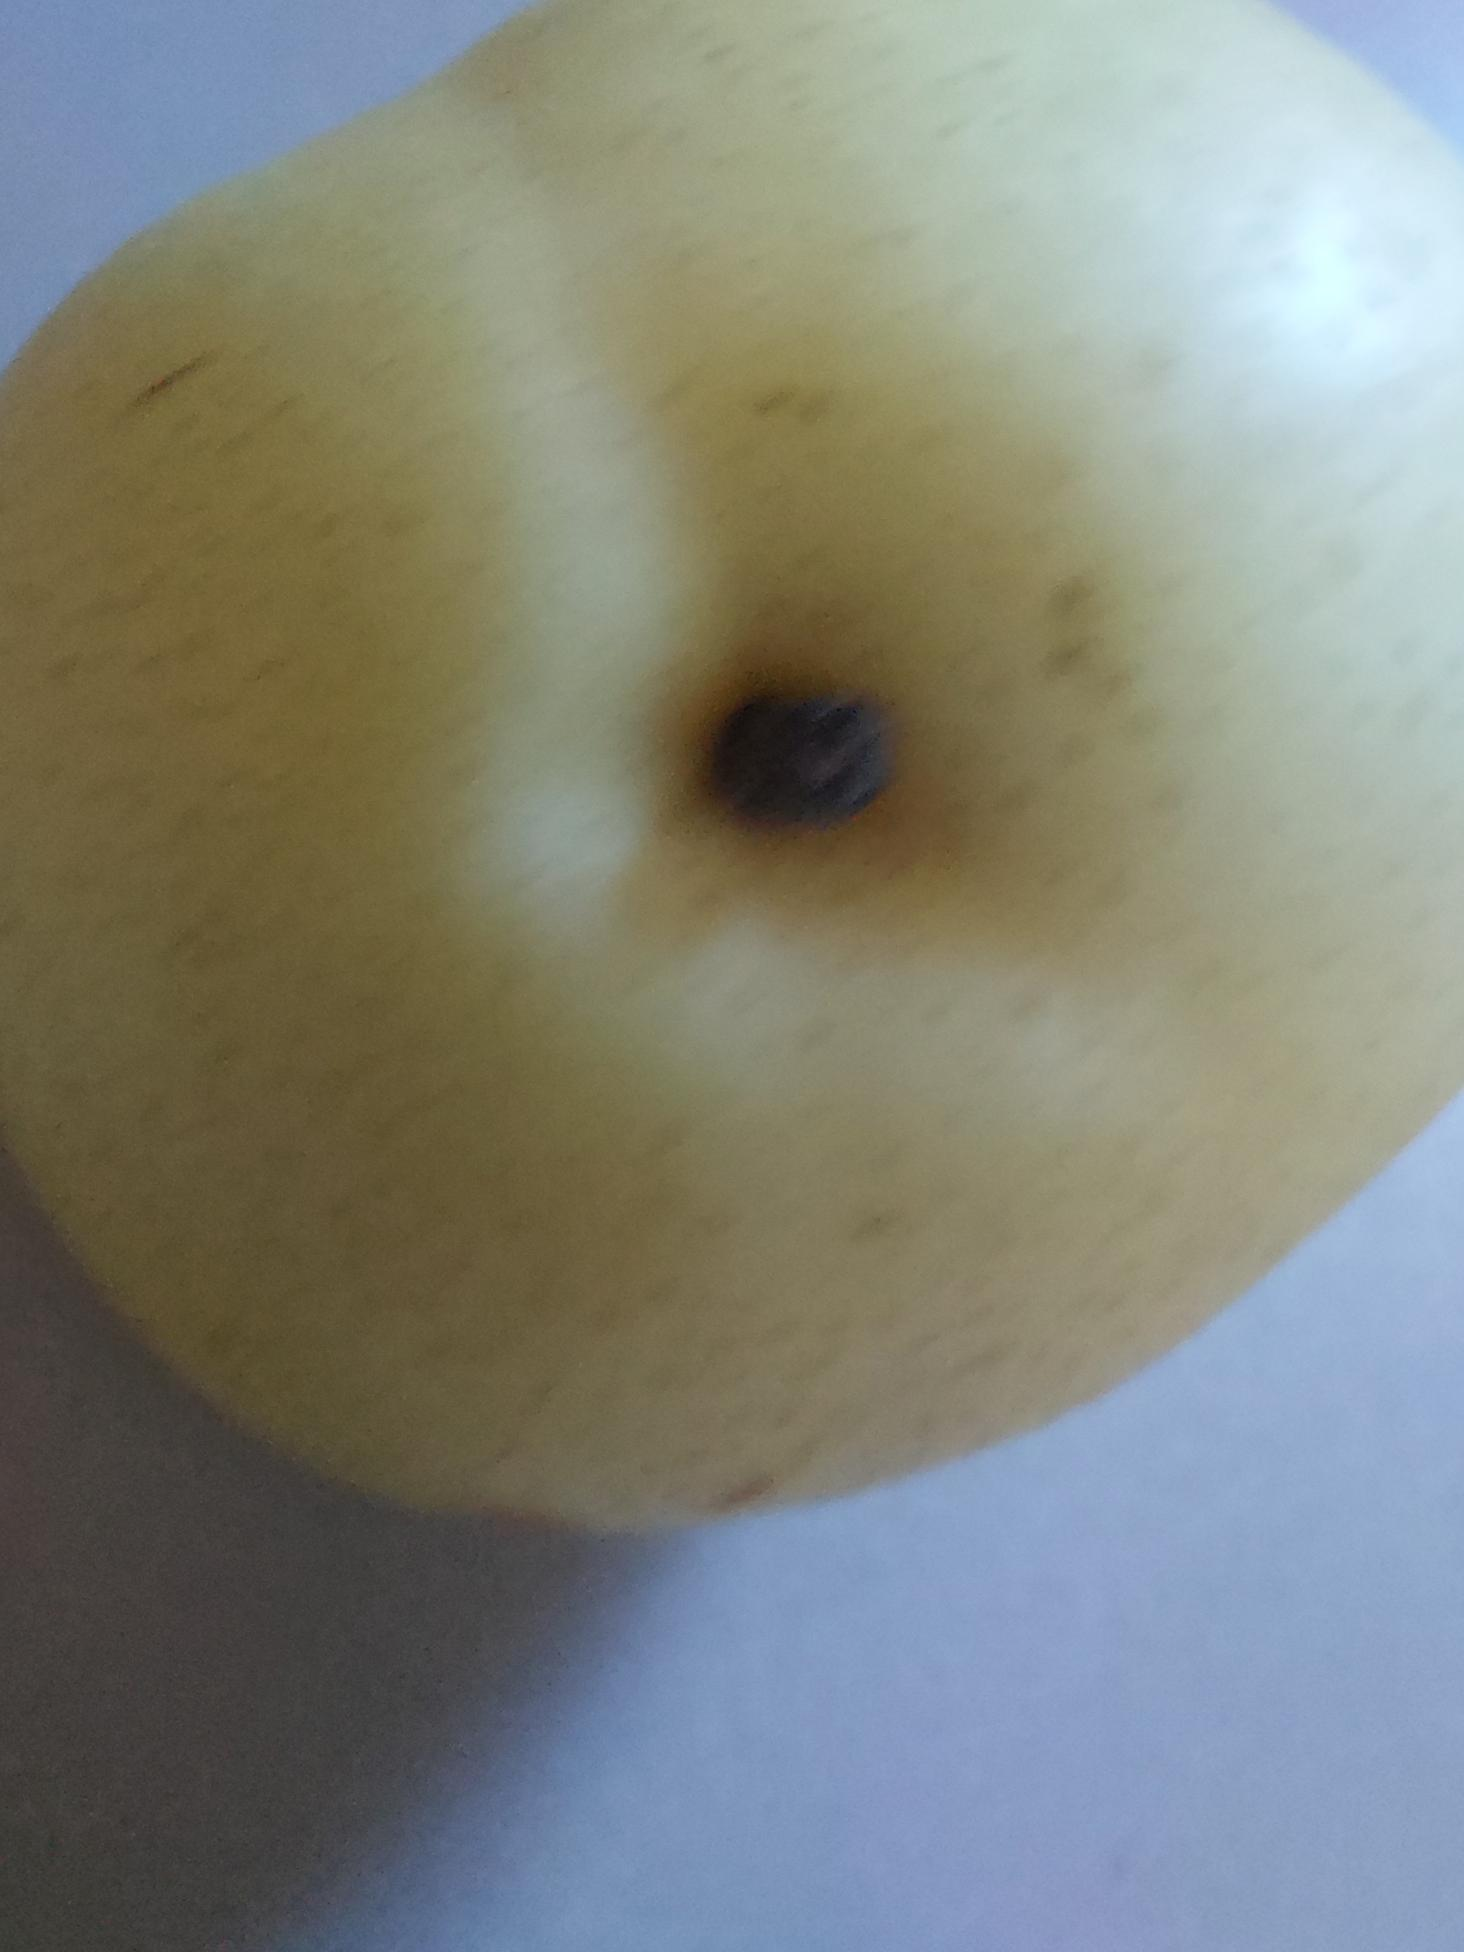Good Pear: (0, 0, 1464, 1629)
